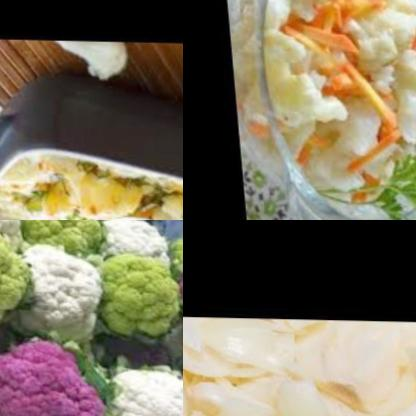carrot: (314, 28, 372, 96), (344, 124, 403, 170), (327, 0, 383, 19)
cayliflower: (0, 147, 183, 220), (7, 230, 106, 338), (302, 92, 398, 195), (0, 327, 107, 416), (250, 18, 333, 124), (95, 245, 178, 339), (90, 349, 183, 416), (338, 0, 416, 68), (372, 37, 416, 147), (52, 41, 135, 91), (87, 220, 171, 269), (13, 220, 108, 259), (0, 220, 34, 327), (271, 0, 339, 16), (173, 247, 183, 341), (165, 231, 183, 272)
onion: (183, 313, 416, 416)
